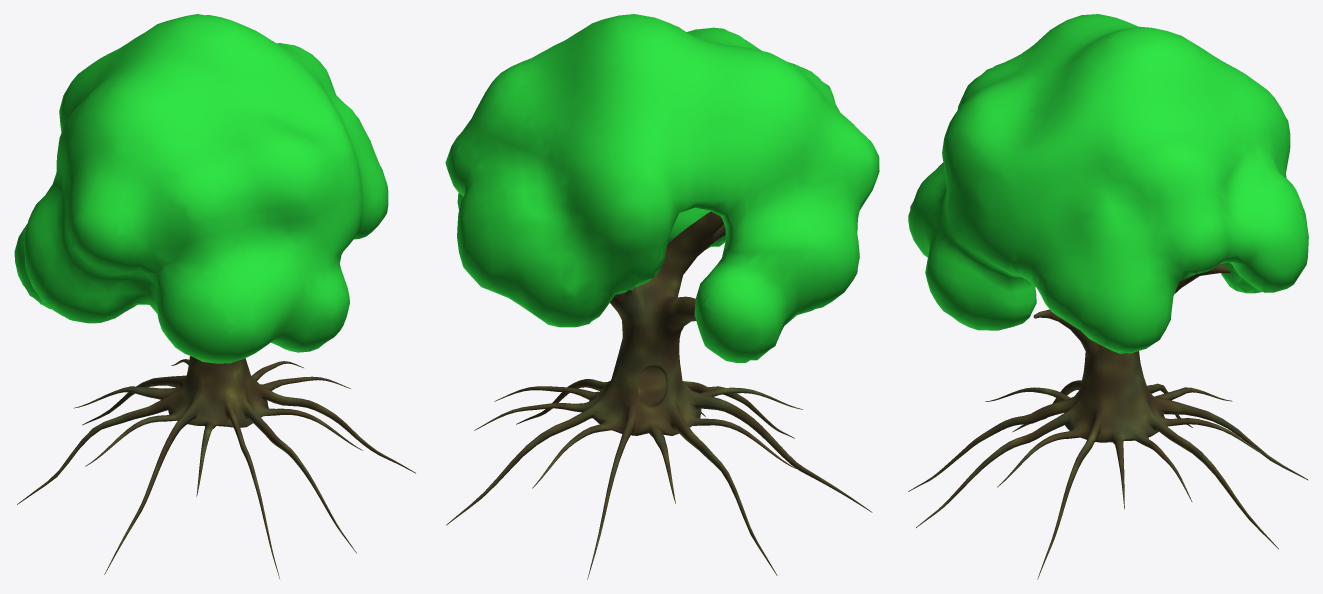
File: bigTree.glb
3 renders of one model, left to right at view 1: azimuth 30°, elevation 25°; view 2: azimuth 150°, elevation 25°; view 3: azimuth 270°, elevation 25°, orthographic. The views are drawn at different scales.
Visible parts, largest first — view 1: Object_6.001, Object_4.001; view 2: Object_6.001, Object_4.001; view 3: Object_6.001, Object_4.001.
Boxes of the visible parts, x1,y1,x2,y2 form: Object_6.001: [14, 14, 388, 363]; Object_4.001: [17, 356, 415, 578]; Object_6.001: [445, 14, 879, 362]; Object_4.001: [446, 211, 872, 579]; Object_6.001: [908, 14, 1308, 353]; Object_4.001: [908, 263, 1308, 579].
Size of the model in its own units: 4.1 by 5.15 by 3.93.
2 materials, 1 textured.
